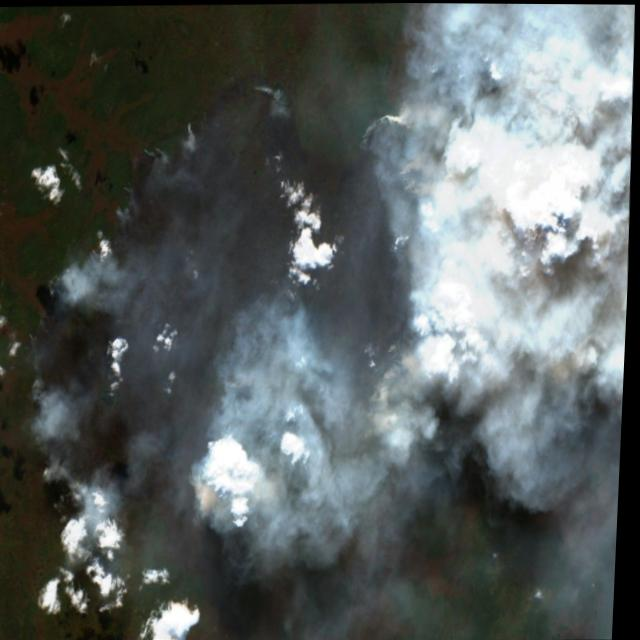fire: (154, 98, 531, 484)
